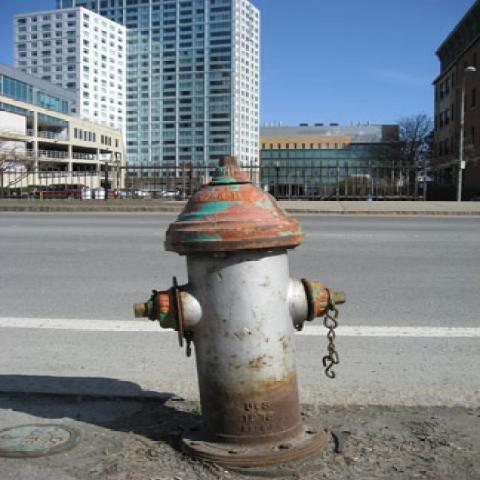car: (42, 184, 85, 201), (135, 188, 172, 199), (81, 187, 107, 199), (4, 188, 30, 199), (162, 189, 179, 199), (152, 192, 162, 197)
